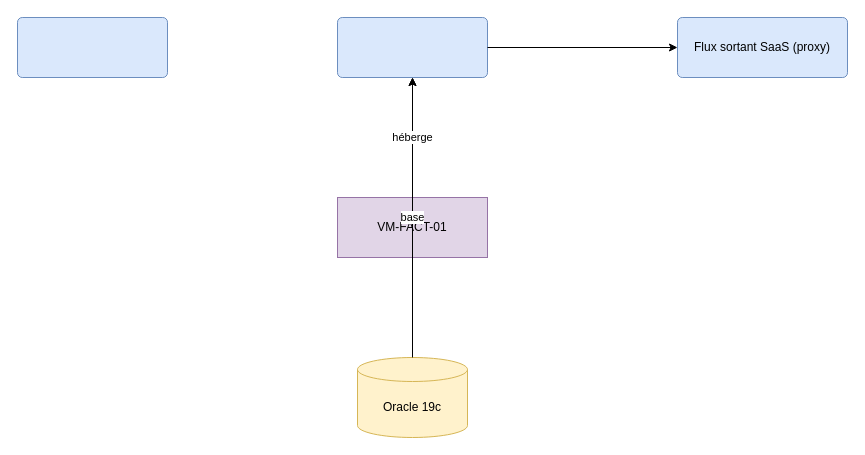
Some shapes in this 865 by 455 pixel diagram are drawn without their labels. The centre of each missing label's shape, as x and y in pixels:
Ondine: (412,47)
Portail: (92,47)
